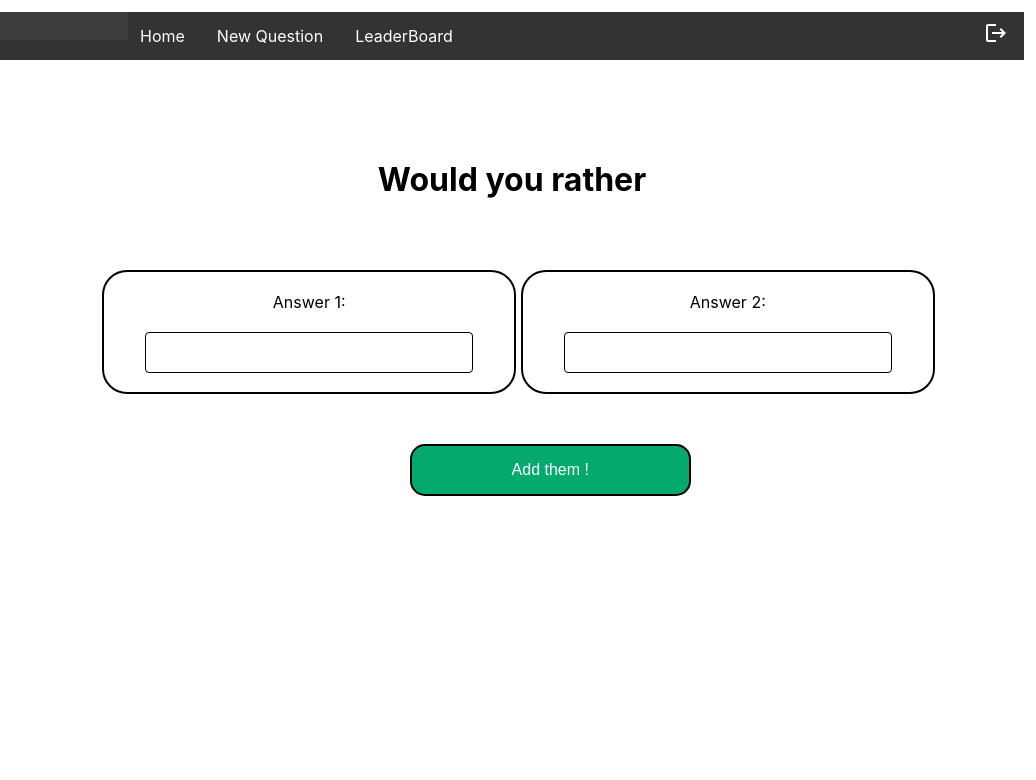
QuestionAddingPage › should handle just one input
Type "First answer option" into the field with test id "answer-one-input" at (309, 353), box x1=145 y1=332 x2=473 y2=373
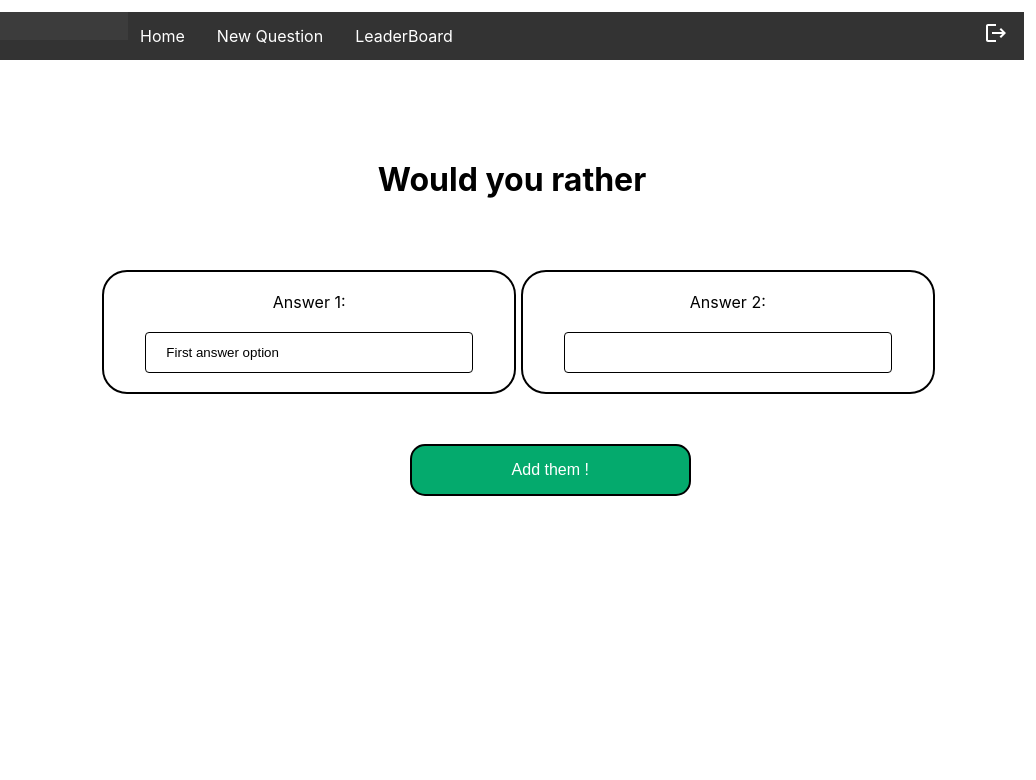
Click the button with test id "submit-button" at (550, 470), box x1=410 y1=444 x2=691 y2=496
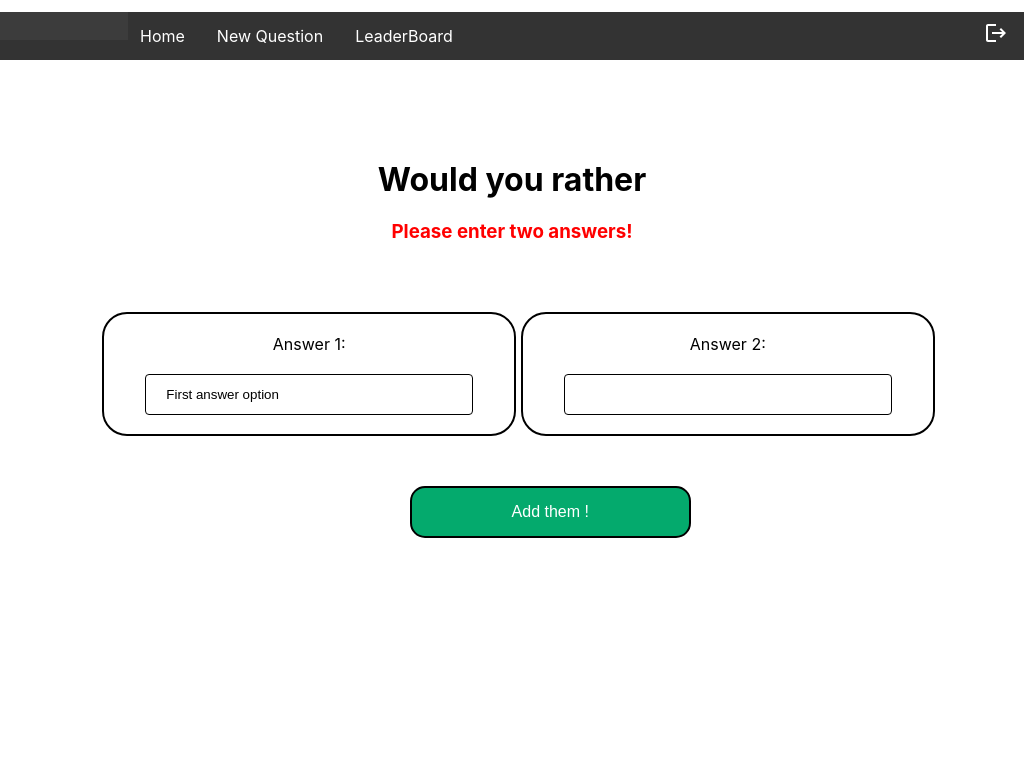
Expected: the heading "Please enter two answers!" is shown, x1=392 y1=220 x2=632 y2=243
